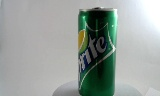sprite: (70, 7, 110, 95)
